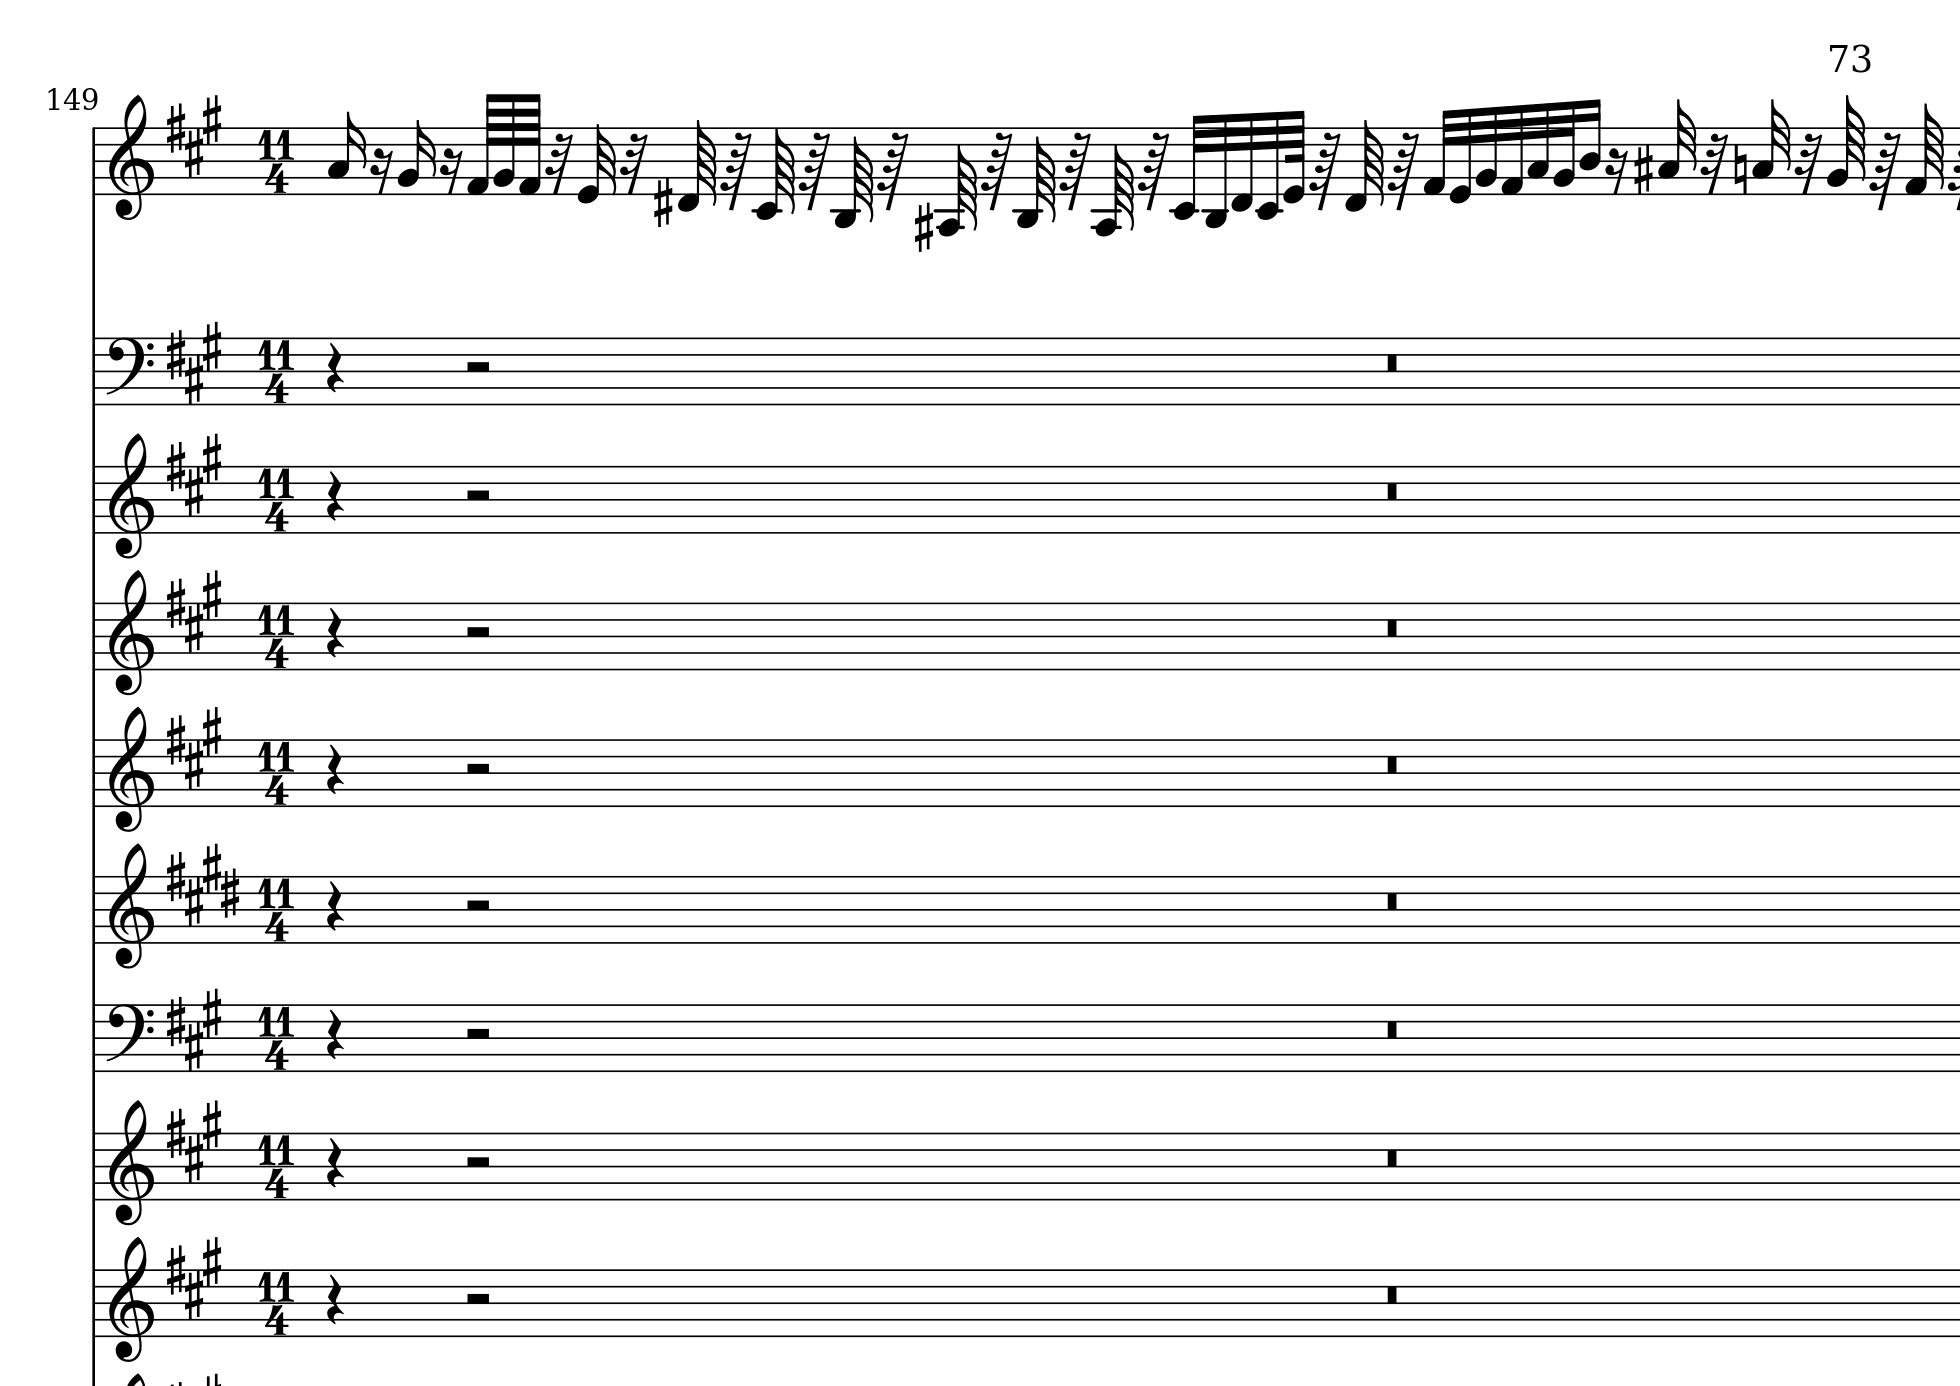1: (274, 738, 295, 772), (274, 1003, 295, 1038), (276, 601, 295, 637), (274, 127, 295, 160), (274, 337, 295, 370), (274, 876, 295, 909), (274, 1132, 295, 1165), (276, 465, 295, 499), (276, 1269, 295, 1303), (256, 601, 274, 637), (256, 1267, 274, 1303), (256, 465, 274, 499), (256, 874, 274, 909), (256, 127, 274, 160), (256, 337, 274, 370), (256, 739, 274, 772), (256, 1003, 274, 1036), (256, 1132, 274, 1165), (46, 84, 61, 114)
16_2: (397, 117, 435, 196)
16_3: (325, 109, 364, 195)
16_4: (1578, 97, 1602, 192)
3: (1851, 42, 1875, 73)
32_-1: (1171, 112, 1206, 219), (1231, 112, 1255, 211)
32_-2: (1257, 112, 1284, 220)
32_-3: (1203, 112, 1230, 229)
32_0: (1450, 109, 1474, 205)
32_1: (1498, 100, 1525, 195), (1423, 109, 1452, 196)
32_2: (1552, 100, 1576, 196), (1476, 105, 1500, 196)
32_3: (1752, 97, 1791, 196), (1659, 97, 1696, 195), (1527, 100, 1551, 195)
4: (259, 877, 294, 934), (259, 1134, 294, 1186), (261, 1036, 292, 1071), (261, 160, 292, 193), (262, 1302, 292, 1336), (262, 370, 292, 403), (262, 772, 292, 805), (262, 909, 292, 942), (262, 1165, 292, 1198), (262, 499, 291, 532), (262, 636, 291, 669), (63, 84, 79, 112)
64_-1: (676, 118, 718, 211), (1345, 118, 1386, 211)
64_-2: (754, 126, 796, 220)
64_-3: (1014, 127, 1059, 229), (832, 127, 874, 229)
64_-4: (1093, 126, 1137, 238), (937, 124, 979, 235)
64_0: (576, 121, 616, 204), (1284, 109, 1308, 205)
64_1: (1905, 102, 1945, 196), (466, 93, 496, 196), (514, 91, 543, 192)
64_2: (1827, 94, 1867, 196), (493, 91, 516, 196)
7: (1827, 40, 1849, 73)
9: (81, 84, 97, 112)
A_S: (165, 570, 223, 652), (163, 987, 222, 1069), (165, 1099, 223, 1182), (165, 1236, 223, 1318), (165, 706, 223, 787), (165, 94, 222, 177), (165, 321, 222, 403), (165, 433, 222, 514)
E_S: (163, 841, 244, 925)
Fclef: (103, 1002, 156, 1074), (105, 336, 156, 406)
Gclef: (106, 93, 156, 222), (106, 432, 156, 561), (106, 568, 156, 697), (106, 841, 156, 970), (106, 1234, 156, 1363), (106, 705, 156, 832), (106, 1099, 156, 1227)
Natural: (1731, 142, 1749, 196)
Rests16: (369, 145, 393, 196), (439, 145, 463, 196), (1605, 145, 1629, 196)
Rests2: (460, 486, 493, 505), (460, 622, 493, 642), (460, 759, 493, 778), (460, 895, 493, 915), (460, 1024, 493, 1044), (460, 1152, 493, 1171), (460, 1288, 493, 1308), (460, 358, 493, 376)
Rests32: (619, 129, 648, 195), (1701, 130, 1729, 195), (1794, 130, 1822, 195)
Rests4: (322, 742, 346, 798), (322, 879, 346, 934), (322, 1135, 346, 1191), (322, 469, 346, 523), (322, 606, 346, 660), (322, 1006, 345, 1062), (324, 340, 346, 394), (324, 1272, 345, 1327)
Rests64: (877, 129, 910, 211), (1137, 129, 1170, 211), (1869, 127, 1902, 210), (720, 129, 751, 214), (798, 130, 831, 211), (981, 130, 1014, 211), (1309, 127, 1341, 211), (1060, 130, 1092, 211), (1389, 127, 1419, 211), (544, 129, 571, 193)
Sharp: (1632, 142, 1654, 196), (652, 175, 673, 229), (913, 201, 934, 253)
Single_barline: (85, 126, 100, 195), (87, 337, 102, 405), (87, 876, 100, 943), (87, 1132, 100, 1200), (87, 1269, 100, 1336), (87, 466, 100, 532), (87, 603, 100, 669), (87, 739, 100, 805), (87, 1005, 100, 1071)
TimeSig: (256, 126, 295, 195), (256, 465, 295, 534), (256, 738, 295, 807), (256, 874, 295, 943), (256, 1003, 295, 1072), (256, 337, 295, 405), (256, 601, 295, 669), (256, 1132, 295, 1200), (256, 1267, 294, 1336)
